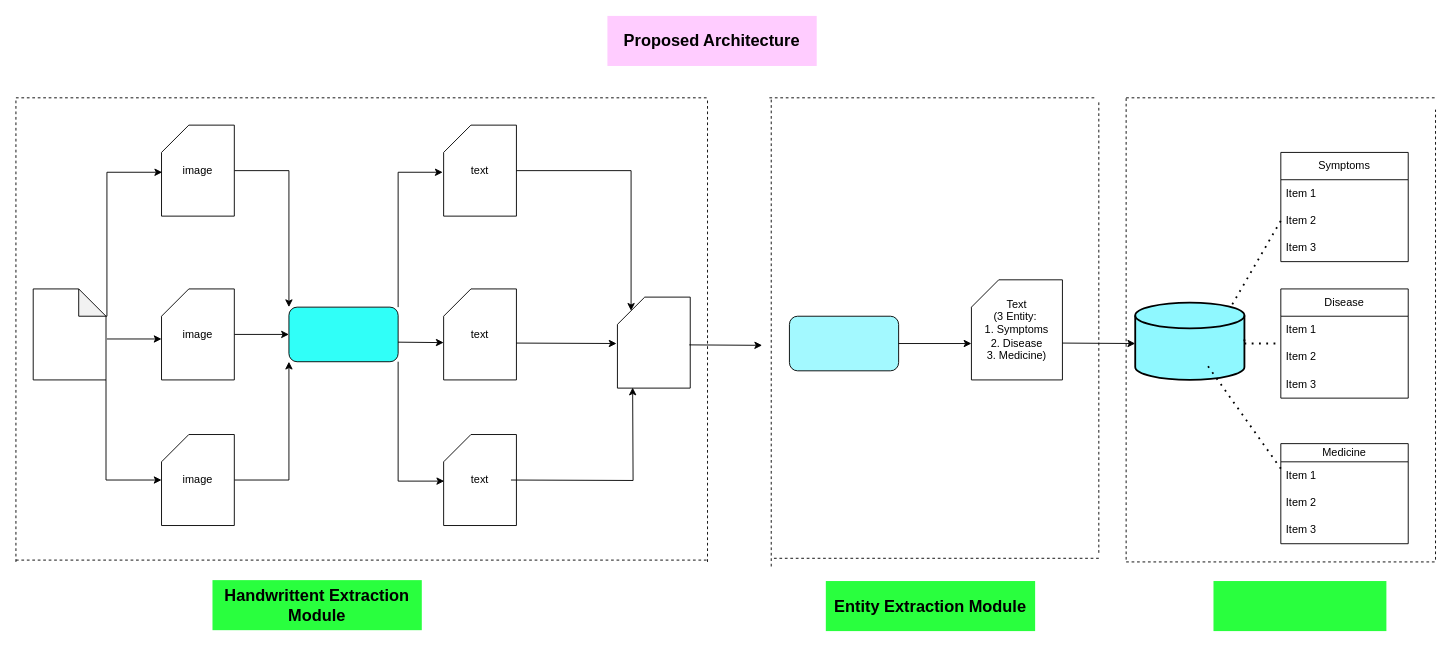
Image size: 1452x646. Some labels were removed from this diagram. The shapes that lost their labels are listed below. From the top down, each one's box as (x1, y1, x2, y2) in pixels, then its label:
(32, 288, 106, 380): medical report (PDF)
(288, 306, 398, 362): Cloud Vision API
(617, 296, 690, 388): Text (combined)
(789, 315, 899, 371): Custom NER with Spacy
(1134, 301, 1245, 380): AmazonDynamoDB
(1213, 581, 1386, 631): Data WareHouse
